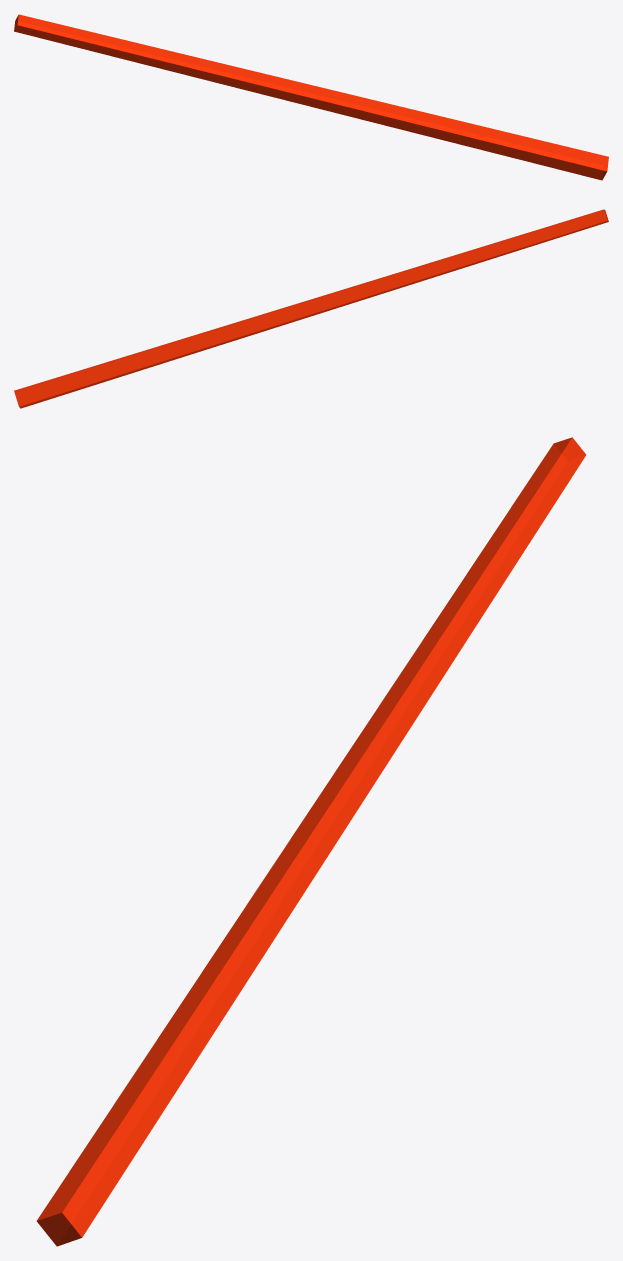
The model's file is Event_421278790_EBrechit_15.fbx.
3 renders of one model, top to bottom at view 1: azimuth 30°, elevation 25°; view 2: azimuth 210°, elevation 25°; view 3: azimuth 270°, elevation 25°, orthographic. The views are drawn at different scales.
Visible parts, largest first — view 1: Model; view 2: Model; view 3: Model.
Boxes of the visible parts, x1=… form: Model: x1=14, y1=14, x2=608, y2=180; Model: x1=14, y1=209, x2=608, y2=408; Model: x1=36, y1=437, x2=586, y2=1246.
Size of the model in its own units: 2.5 by 0.9317 by 1.27.
